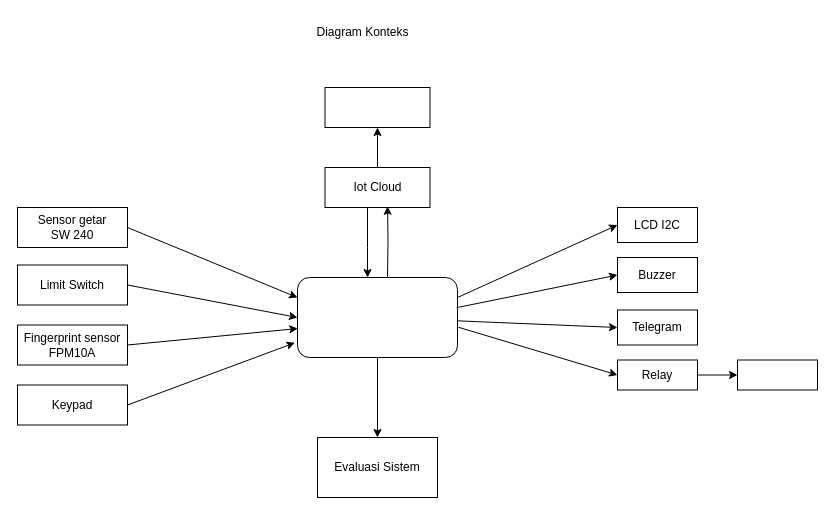
The diagram is 835 pixels wide and 515 high, and some of its shapes have lost their labels. The shapes that lost their labels are listed below. From the top down, each one's box as (x1, y1, x2, y2) in pixels, then its label:
(324, 86, 430, 128): Website
(296, 276, 458, 358): Sistem Smart Locker
(736, 359, 818, 390): Selenoid
